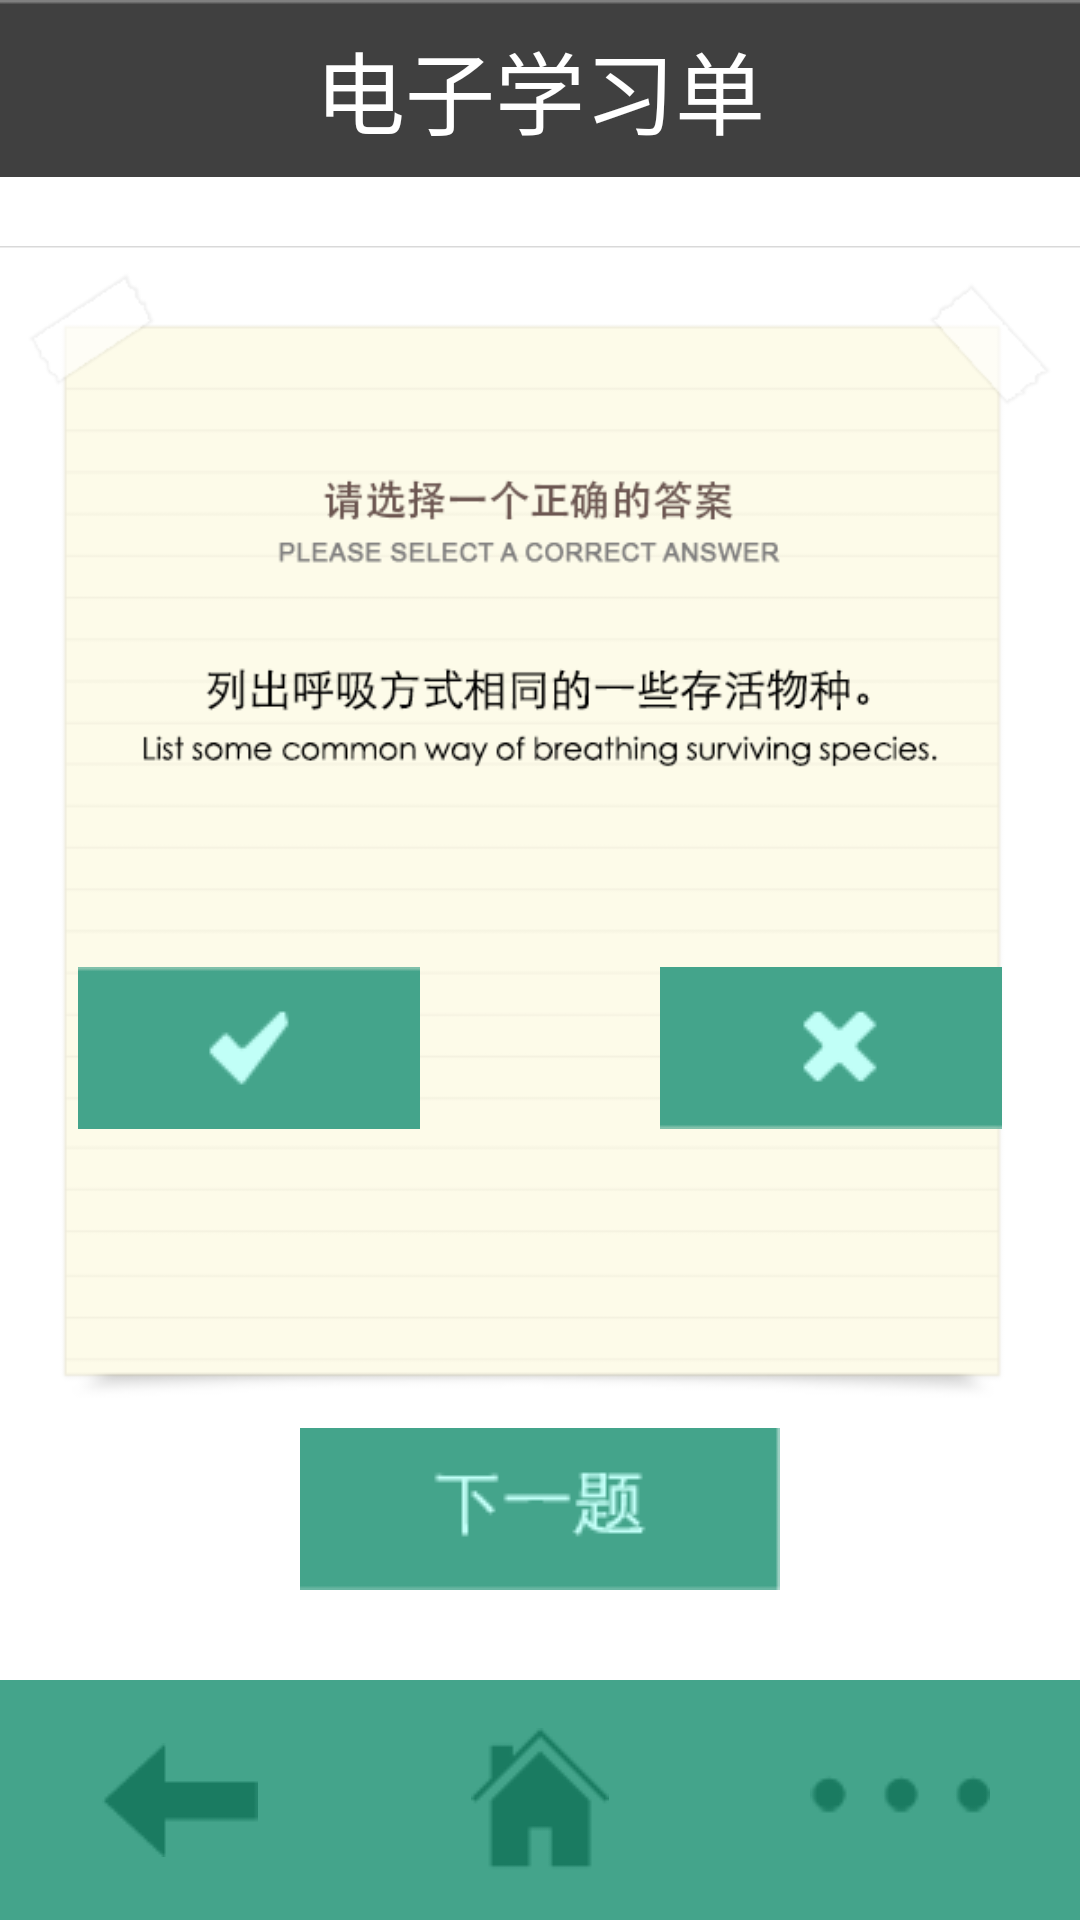

Where to tap for icons on this 1080*1920 app screen, as [x,y]:
back: [181,1800]
check: [249,1048]
home: [541,1798]
wrong: [831,1048]
